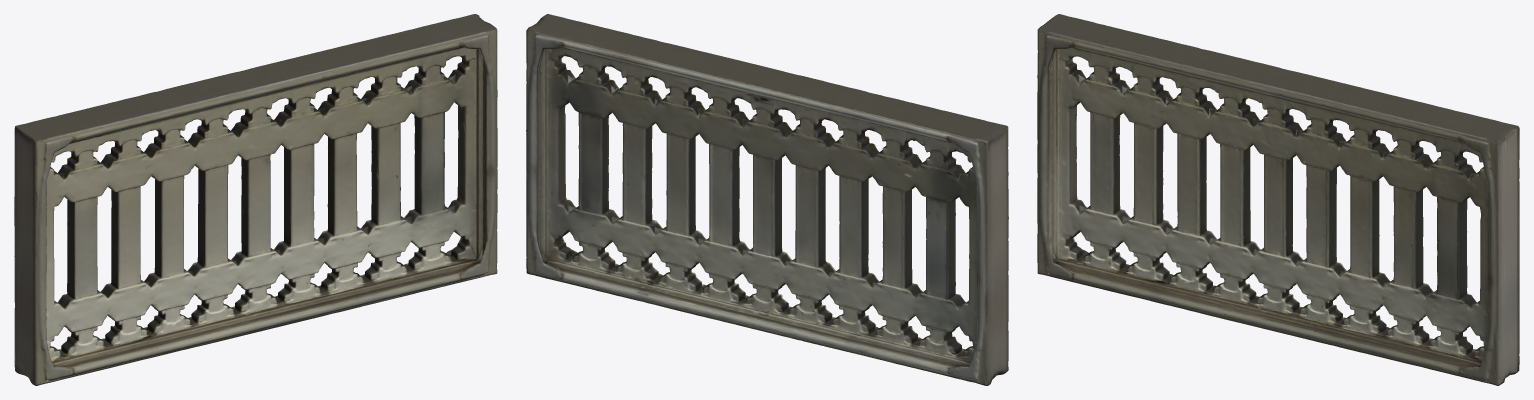
Rendered from cosmos.glb.
The picture shows the model from 3 angles, left to right: view 1: azimuth 30°, elevation 25°; view 2: azimuth 150°, elevation 25°; view 3: azimuth 330°, elevation 25°; orthographic projection.
Size of the model in its own units: 1.9 by 0.9667 by 0.17.
Materials: 1 (1 with a texture image).
